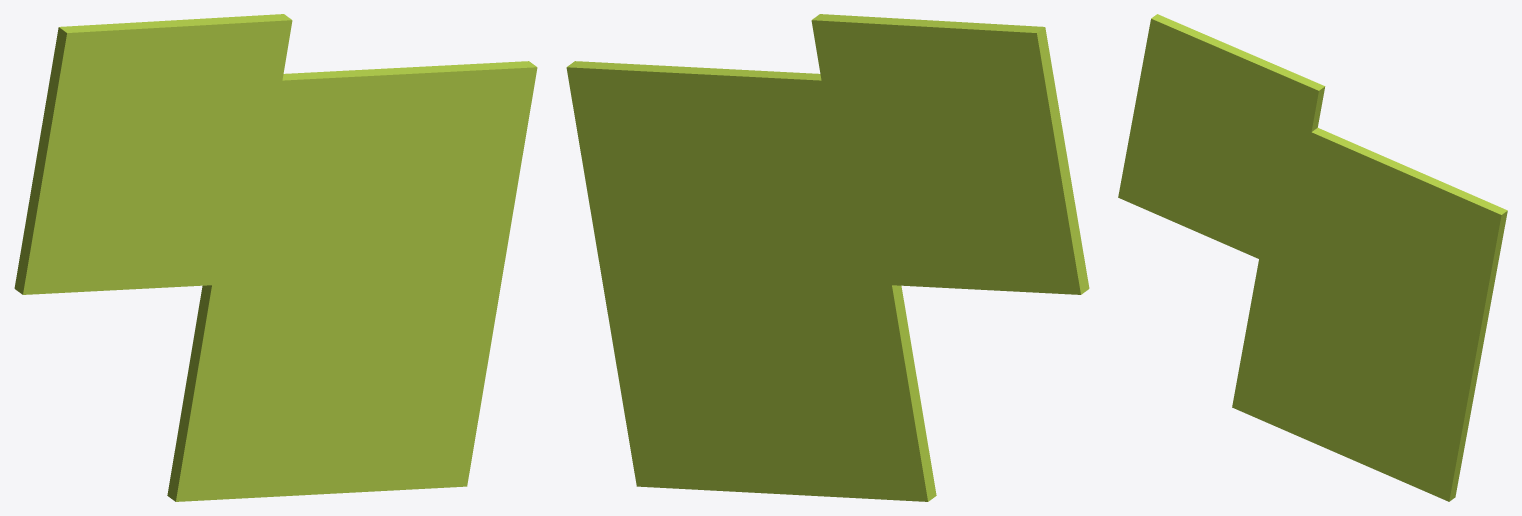
3 renders of one model, left to right at view 1: azimuth 30°, elevation 25°; view 2: azimuth 150°, elevation 25°; view 3: azimuth 330°, elevation 25°, orthographic. The views are drawn at different scales.
Parts seen in each view (by area): view 1: osm-way27917482-F3; view 2: osm-way27917482-F3; view 3: osm-way27917482-F3.
Boxes of the visible parts, x1,y1,x2,y2 form: osm-way27917482-F3: (14,14,537,501); osm-way27917482-F3: (566,14,1089,501); osm-way27917482-F3: (1118,14,1507,501).
Size of the model in its own units: 5.27 by 5.39 by 0.15.
